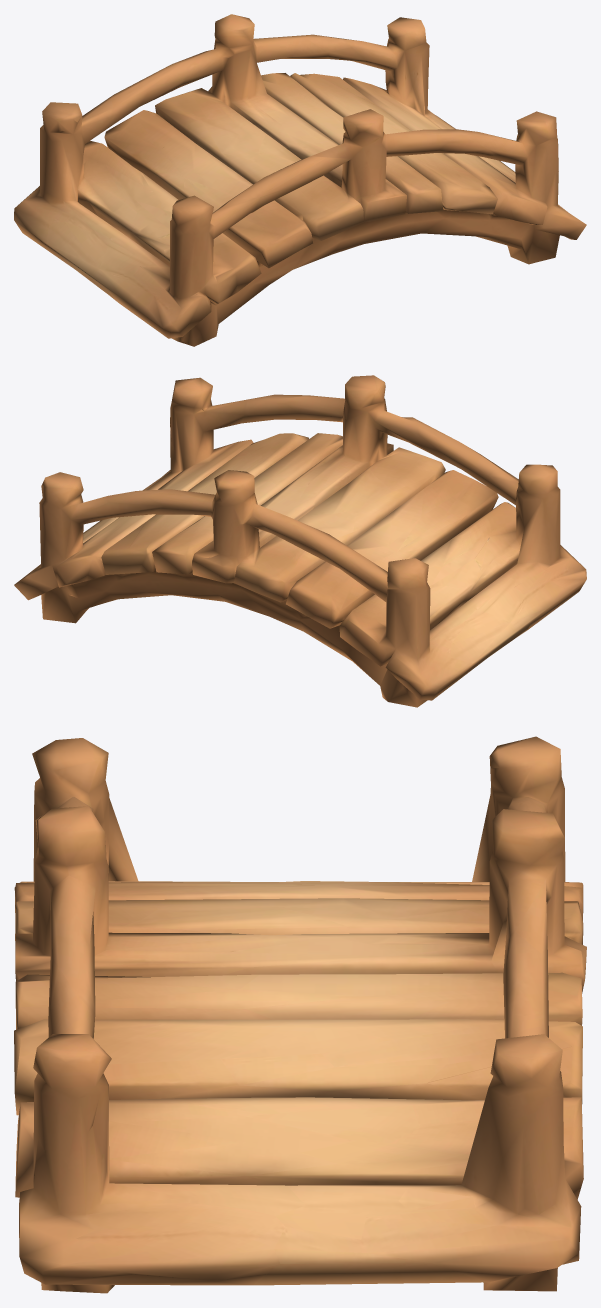
Rendered from pont.glb.
3 views of the same model, one above another, from view 1: azimuth 30°, elevation 25°; view 2: azimuth 150°, elevation 25°; view 3: azimuth 270°, elevation 25° (orthographic). The views are drawn at different scales.
Parts seen in each view (by area): view 1: tripo_node_b3e65cc1-206f-4f83-bc6b-2bd30214174e; view 2: tripo_node_b3e65cc1-206f-4f83-bc6b-2bd30214174e; view 3: tripo_node_b3e65cc1-206f-4f83-bc6b-2bd30214174e.
Boxes of the visible parts, x1,y1,x2,y2 form: tripo_node_b3e65cc1-206f-4f83-bc6b-2bd30214174e: [14, 14, 586, 346]; tripo_node_b3e65cc1-206f-4f83-bc6b-2bd30214174e: [14, 375, 586, 707]; tripo_node_b3e65cc1-206f-4f83-bc6b-2bd30214174e: [14, 736, 586, 1293].
Bounding box in the file's own units: 1 × 0.4056 × 0.6664.
1 material, 1 textured.
